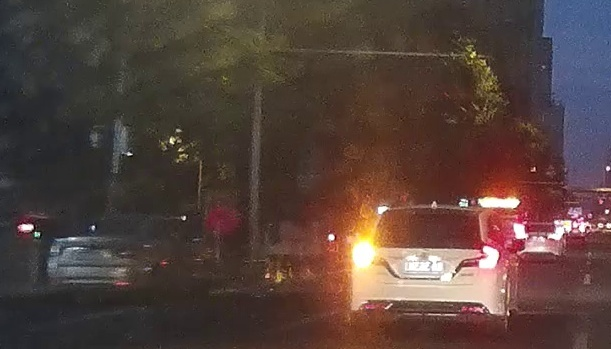L_light: (352, 243, 387, 268)
R_light: (461, 246, 500, 268)
T_light: (418, 208, 445, 215)
night-left: (351, 205, 499, 335)
